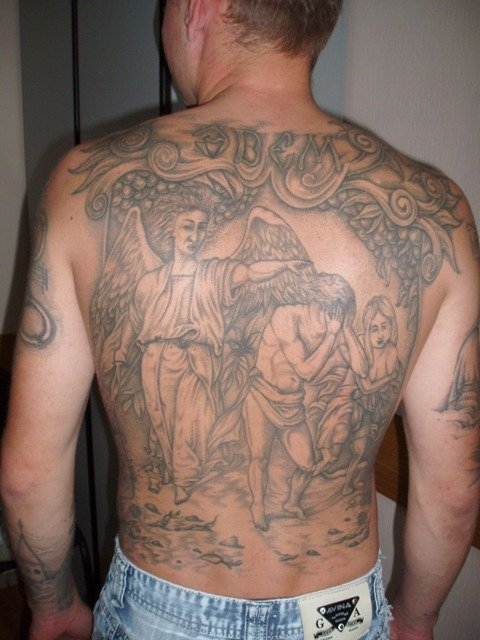tatu1_angel: (95, 190, 309, 534)
tatu3_bukva: (184, 116, 351, 182)
